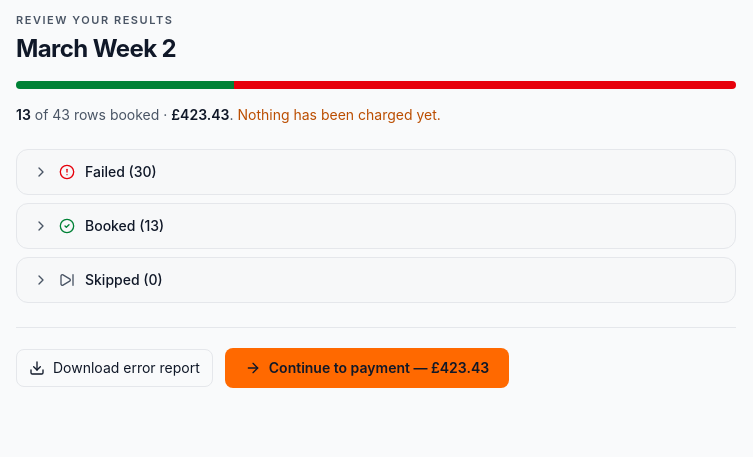
Test: a section whose rows fail to load says it is empty rather than spinning
This screenshot has width=753, height=457.
Click the button "Failed (30)".
click(105, 171)  # box top-left (17, 150), bottom-right (735, 194)
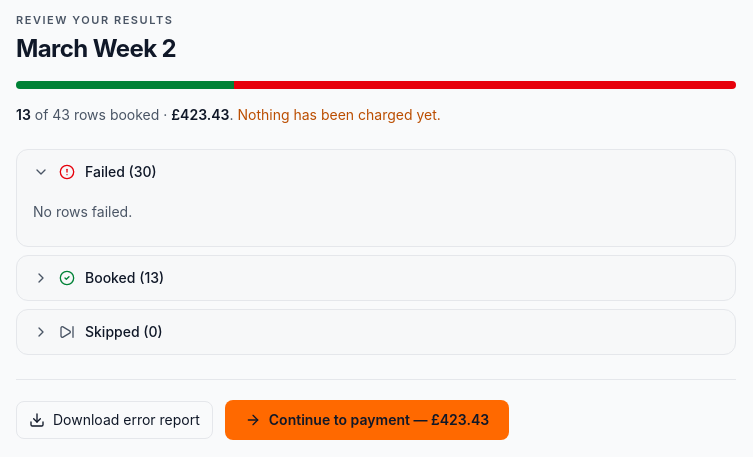
expect the text "No rows failed." is shown: met, box top-left (33, 202), bottom-right (132, 220)
